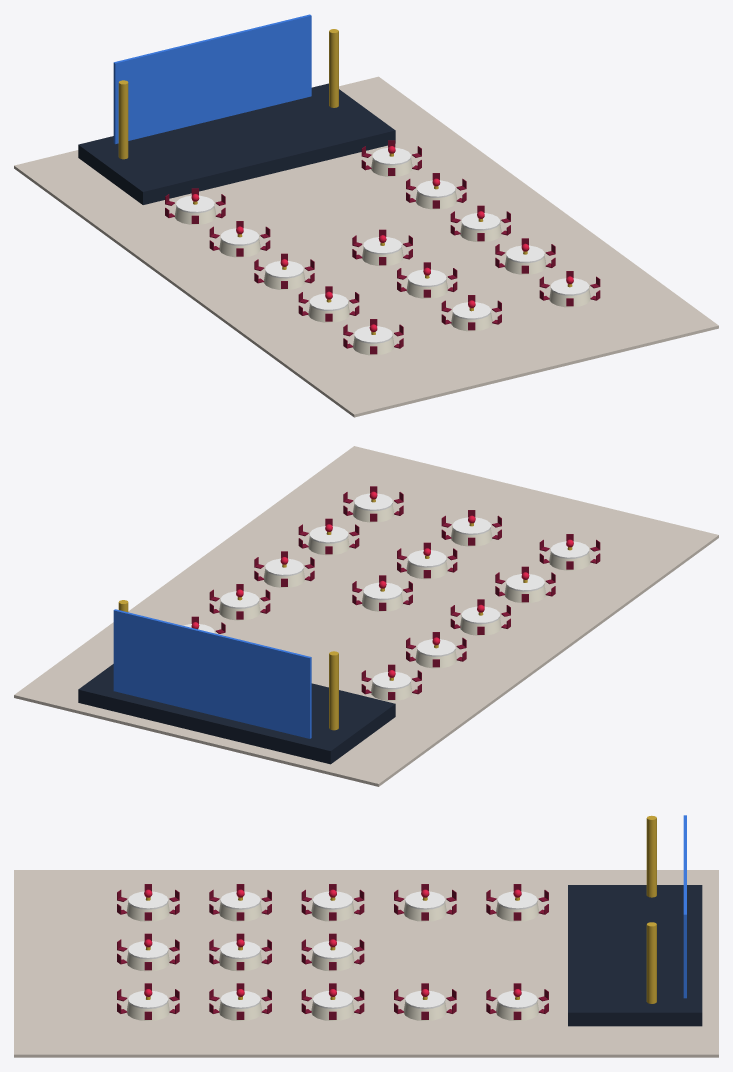
Rendered from banquet-b.glb.
The picture shows the model from 3 angles, top to bottom: view 1: azimuth 30°, elevation 25°; view 2: azimuth 150°, elevation 25°; view 3: azimuth 270°, elevation 25°; orthographic projection. The views are drawn at different scales.
Size of the model in its own units: 26 by 6.6 by 42.
